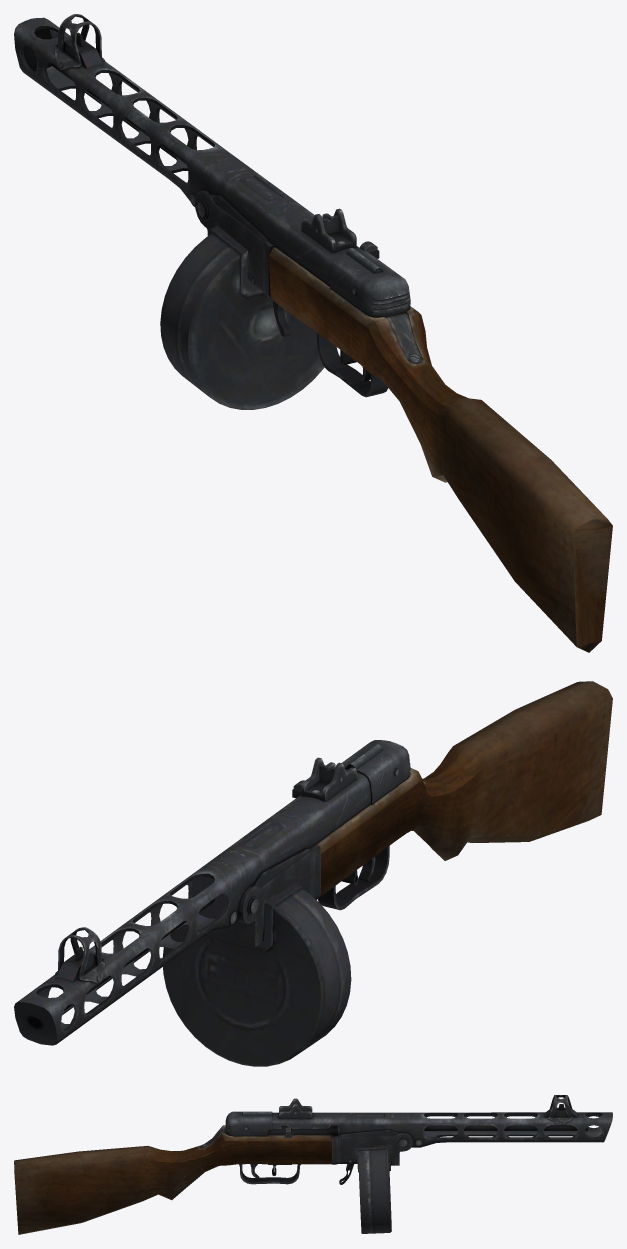
The model's file is ppsh.FBX.
The picture shows the model from 3 angles, top to bottom: view 1: azimuth 30°, elevation 25°; view 2: azimuth 150°, elevation 25°; view 3: azimuth 270°, elevation 25°; orthographic projection. The views are drawn at different scales.
Visible parts, largest first — view 1: Mesh03, Mesh06, Mesh01; view 2: Mesh06, Mesh03, Mesh01; view 3: Mesh03, Mesh06, Mesh01.
Boxes of the visible parts, x1,y1,x2,y2 form: Mesh03: [269, 247, 612, 652]; Mesh06: [14, 14, 420, 397]; Mesh01: [160, 225, 324, 409]; Mesh06: [14, 740, 410, 1045]; Mesh03: [316, 681, 612, 897]; Mesh01: [163, 883, 351, 1066]; Mesh03: [14, 1125, 331, 1234]; Mesh06: [201, 1095, 612, 1184]; Mesh01: [357, 1146, 391, 1233].
Size of the model in its own units: 14.58 by 22.51 by 87.71.
